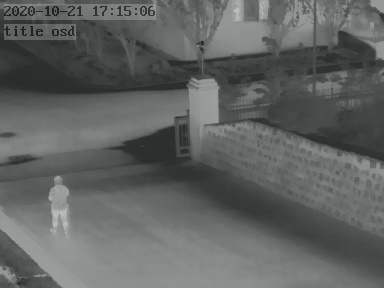person: (49, 170, 72, 235)
